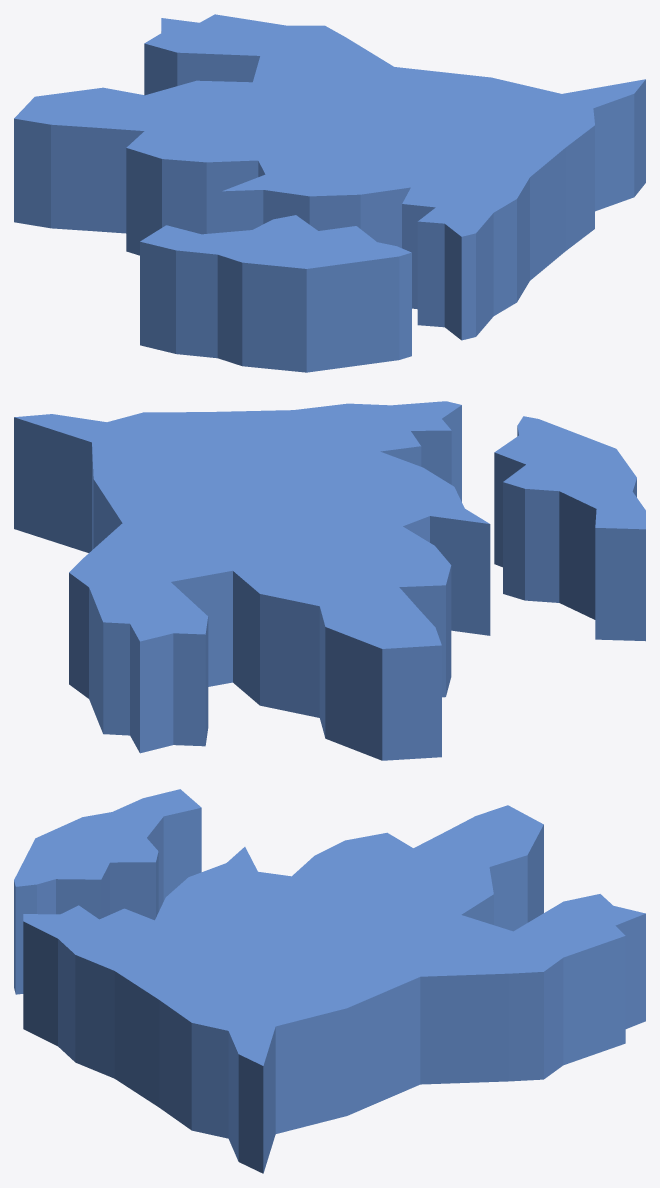
Rendered from Azerbaijan_Ganja.fbx.
The picture shows the model from 3 angles, top to bottom: view 1: azimuth 30°, elevation 25°; view 2: azimuth 150°, elevation 25°; view 3: azimuth 270°, elevation 25°; orthographic projection. The views are drawn at different scales.
Parts seen in each view (by area): view 1: Ganja; view 2: Ganja; view 3: Ganja.
Part boxes in pixels (<box>): Ganja: <box>14,14,645,372</box>; Ganja: <box>14,401,645,760</box>; Ganja: <box>14,789,645,1173</box>.
Size of the model in its own units: 7.22 by 1.31 by 6.96.
